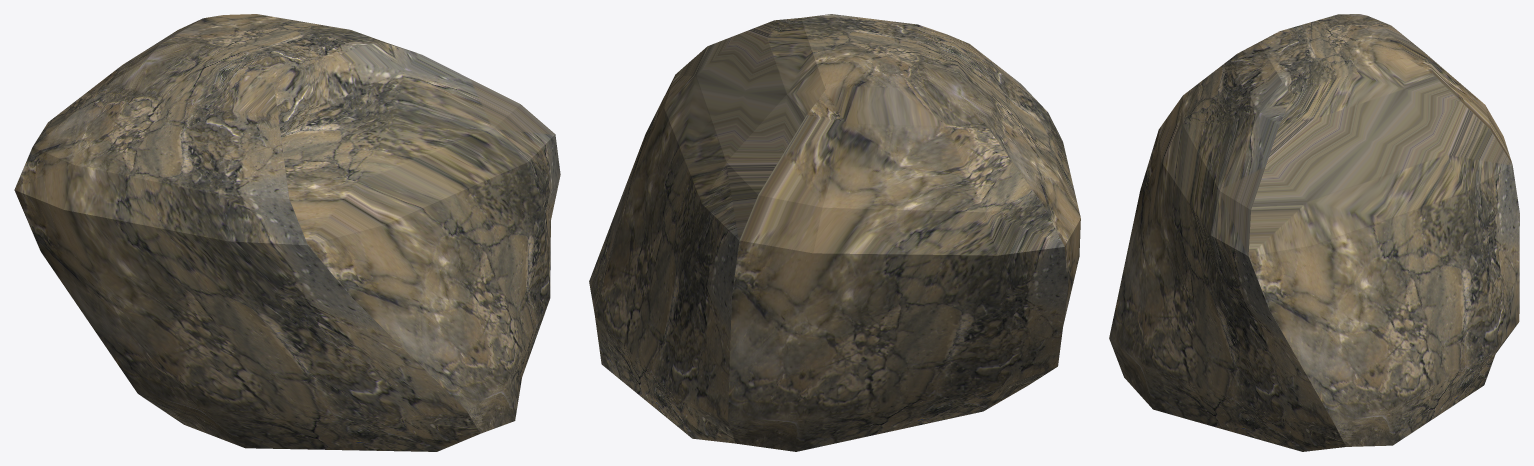
File: Boulder1.FBX
3 views of the same model, side by side, from view 1: azimuth 30°, elevation 25°; view 2: azimuth 150°, elevation 25°; view 3: azimuth 270°, elevation 25° (orthographic). The views are drawn at different scales.
Parts seen in each view (by area): view 1: Box69; view 2: Box69; view 3: Box69.
Part boxes in pixels (left/top/right/bottom): Box69: left=14, top=14, right=560, bottom=451; Box69: left=589, top=14, right=1080, bottom=451; Box69: left=1109, top=14, right=1519, bottom=451.
Size of the model in its own units: 11.76 by 8.17 by 9.67.
